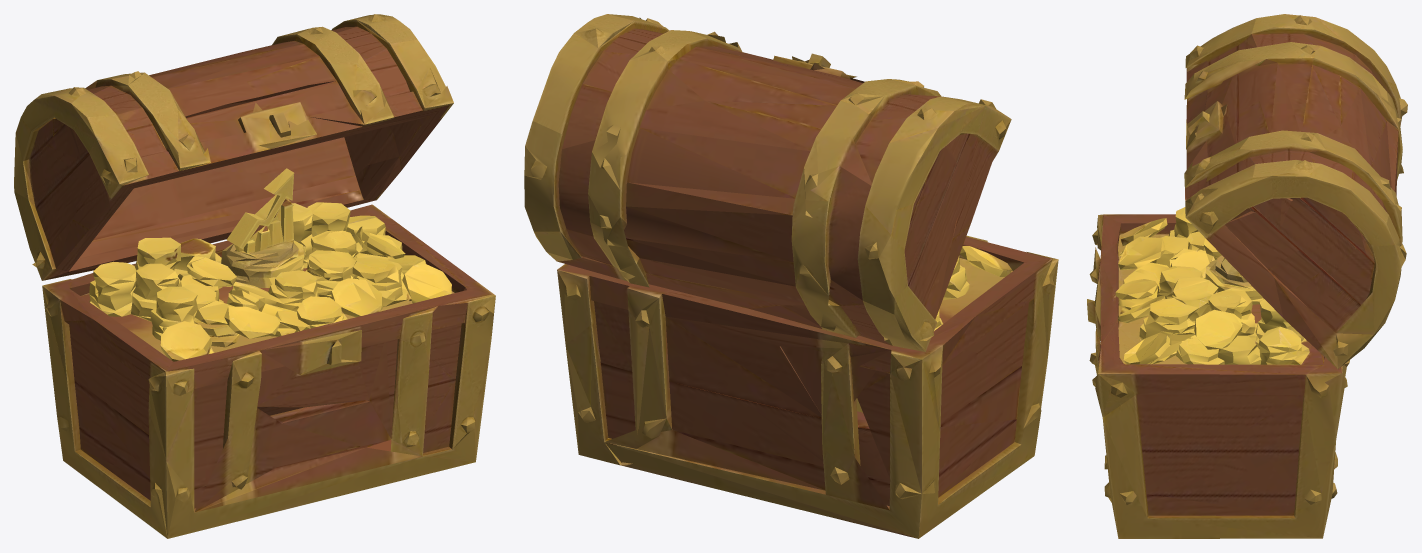
File: treasure_chest.glb
3 views of the same model, side by side, from view 1: azimuth 30°, elevation 25°; view 2: azimuth 150°, elevation 25°; view 3: azimuth 270°, elevation 25° (orthographic). The views are drawn at different scales.
Size of the model in its own units: 0.7604 by 0.8 by 0.6168.
Materials: 1 (1 with a texture image).
